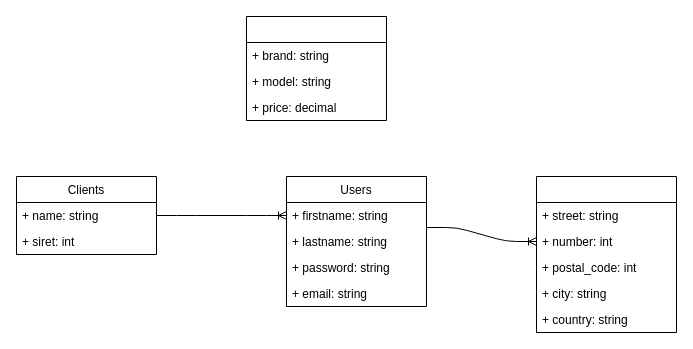
The diagram is 693 pixels wide and 349 high, and some of its shapes have lost their labels. The box of each missing label's shape, as (x1, y1, x2, y2) in pixels:
Adress: (536, 176, 676, 332)
Products: (246, 16, 386, 120)
